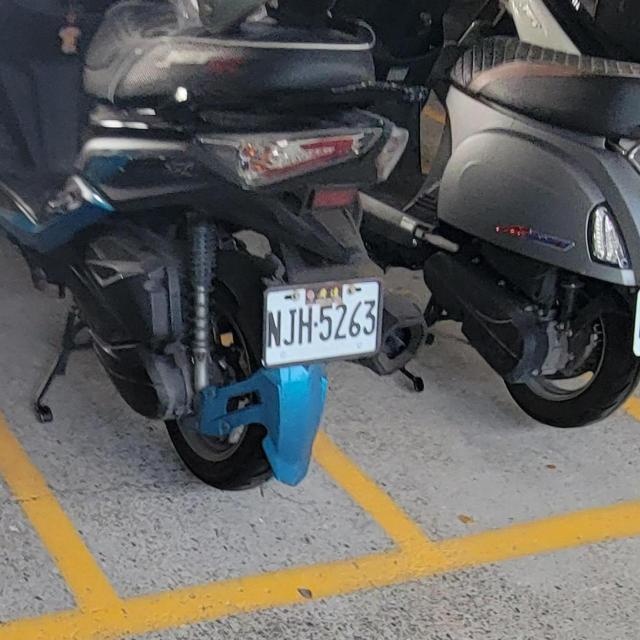W: (260, 277, 382, 365)
